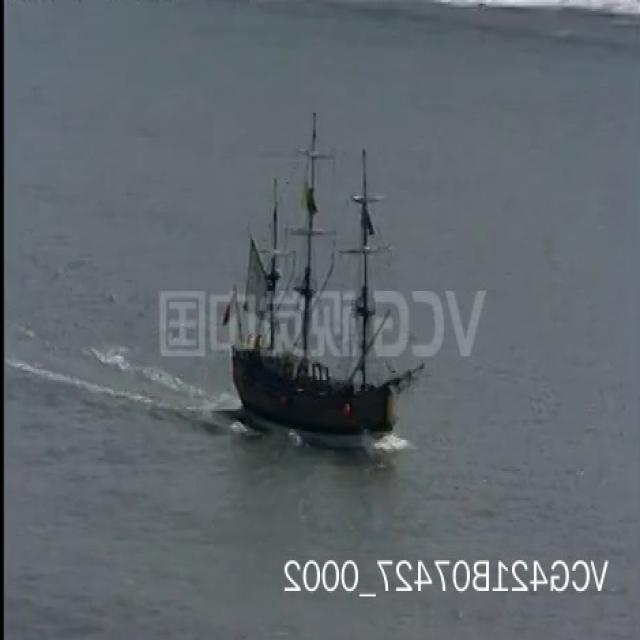sailboat: (224, 112, 436, 444)
